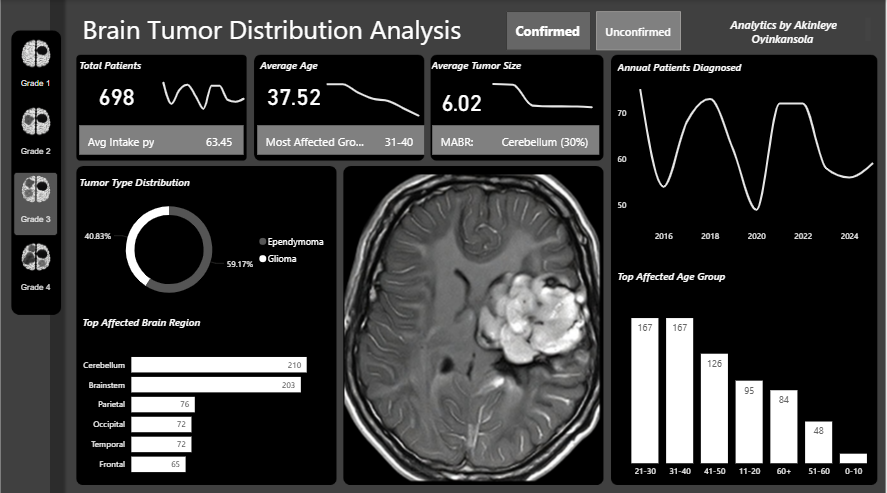

What the dashboard file says about the page in this screenshot:
{"tool":"powerbi","page":{"name":"Page 1","canvas":[1280,720],"ordinal":0},"visuals":[{"type":"card","fields":{"Values":["Count(Brain Tumor Data b.Patient ID)"]},"box":[109.9,98.3,117.1,78.1],"z":0},{"type":"lineChart","fields":{"Category":["Brain Tumor Data b.Date of Diagnosis.Variation.Date Hierarchy.Year"],"Y":["CountNonNull(Brain Tumor Data b.Patient ID)"]},"box":[221.2,98.3,146,78.1],"z":1000},{"type":"textbox","box":[105.5,78.1,115.7,39],"z":2000},{"type":"textbox","box":[367.2,78.1,115.7,39],"z":3000},{"type":"card","fields":{"Values":["Avg(Brain Tumor Data.Age)"]},"box":[367.2,98.3,115.7,78.1],"z":4000},{"type":"lineChart","fields":{"Y":["CountNonNull(Brain Tumor Data b.Patient ID)"],"Category":["Brain Tumor Data.Age Group"]},"box":[459.8,98.3,159,78.1],"z":5000},{"type":"textbox","box":[618.8,78.1,153.3,39],"z":6000},{"type":"card","fields":{"Values":["Avg(Brain Tumor Data.Tumor Size (cm))"]},"box":[620.2,117.1,94,59.3],"z":7000},{"type":"lineChart","fields":{"Category":["Brain Tumor Data.Affected Brain Region"],"Y":["Sum(Brain Tumor Data.Tumor Size (cm))"]},"box":[696.9,98.3,174.9,78.1],"z":8000},{"type":"cardVisual","fields":{"Data":["CountNonNull(Brain Tumor Data.Patient ID)"]},"box":[109.9,176.4,247.2,52],"z":9000},{"type":"cardVisual","fields":{"Data":["CountNonNull(Brain Tumor Data.Patient ID)"]},"box":[367.2,176.4,251.6,52],"z":10000},{"type":"cardVisual","fields":{"Data":["CountNonNull(Brain Tumor Data.Patient ID)"]},"box":[620.2,176.4,251.6,52],"z":11000},{"type":"advancedSlicerVisual","fields":{"Values":["Brain Tumor Data.Histology Confirmation"]},"box":[727.2,11.6,263.1,66.5],"z":12000},{"type":"ChicletSlicer1448559807354","fields":{"Category":["Tumor Images b.Tumor Grade"],"Image":["Tumor Images b.Icon URL"]},"box":[11.6,44.8,94,404.8],"z":12001},{"type":"imageDB603108E3FF4EBFB8047F5653368E8C","fields":{"imageUrl":["Tumor Images b.Image URL"]},"box":[493,247.2,378.8,452.5],"z":12003},{"type":"donutChart","fields":{"Category":["Brain Tumor Data.Tumor Type"],"Y":["CountNonNull(Brain Tumor Data.Patient ID)"]},"box":[109.9,271.8,373,177.8],"z":12004},{"type":"textbox","box":[109.9,247.2,205.3,36.1],"z":12005},{"type":"clusteredBarChart","fields":{"Category":["Brain Tumor Data.Affected Brain Region"],"Y":["CountNonNull(Brain Tumor Data.Patient ID)"]},"box":[109.9,491.6,373,208.2],"z":12006},{"type":"textbox","box":[114.2,449.6,195.2,41.9],"z":12007},{"type":"lineChart","fields":{"Category":["Brain Tumor Data.Date of Diagnosis.Variation.Date Hierarchy.Year"],"Y":["CountNonNull(Brain Tumor Data.Patient ID)"]},"box":[887.7,115.7,391.8,244.3],"z":12008},{"type":"textbox","box":[887.7,81,205.3,36.1],"z":12009},{"type":"clusteredColumnChart","fields":{"Category":["Brain Tumor Data.Age Group"],"Y":["CountNonNull(Brain Tumor Data.Patient ID)"]},"box":[887.7,419.3,391.8,280.5],"z":12010},{"type":"textbox","box":[887.7,383.1,205.3,36.1],"z":12011},{"type":"textbox","box":[114.2,11.6,626,66.5],"z":12012},{"type":"textbox","box":[1012,20.2,251.6,47.7],"z":12013}]}

Visuals, with their boxes on the page's 1280x720 design canvas (x1, y1, x2, y2). These are canvas units, not pixel positions in the 887x493 screenshot, which may show the page scaled, cropped or inside an application window:
card - Count(Brain Tumor Data b.Patient ID): {"x1": 110, "y1": 98, "x2": 227, "y2": 176}
lineChart - Brain Tumor Data b.Date of Diagnosis.Variation.Date Hierarchy.Year x CountNonNull(Brain Tumor Data b.Patient ID): {"x1": 221, "y1": 98, "x2": 367, "y2": 176}
textbox: {"x1": 106, "y1": 78, "x2": 221, "y2": 117}
textbox: {"x1": 367, "y1": 78, "x2": 483, "y2": 117}
card - Avg(Brain Tumor Data.Age): {"x1": 367, "y1": 98, "x2": 483, "y2": 176}
lineChart - CountNonNull(Brain Tumor Data b.Patient ID) x Brain Tumor Data.Age Group: {"x1": 460, "y1": 98, "x2": 619, "y2": 176}
textbox: {"x1": 619, "y1": 78, "x2": 772, "y2": 117}
card - Avg(Brain Tumor Data.Tumor Size (cm)): {"x1": 620, "y1": 117, "x2": 714, "y2": 176}
lineChart - Brain Tumor Data.Affected Brain Region x Sum(Brain Tumor Data.Tumor Size (cm)): {"x1": 697, "y1": 98, "x2": 872, "y2": 176}
cardVisual - CountNonNull(Brain Tumor Data.Patient ID): {"x1": 110, "y1": 176, "x2": 357, "y2": 228}
cardVisual - CountNonNull(Brain Tumor Data.Patient ID): {"x1": 367, "y1": 176, "x2": 619, "y2": 228}
cardVisual - CountNonNull(Brain Tumor Data.Patient ID): {"x1": 620, "y1": 176, "x2": 872, "y2": 228}
advancedSlicerVisual - Brain Tumor Data.Histology Confirmation: {"x1": 727, "y1": 12, "x2": 990, "y2": 78}
ChicletSlicer1448559807354 - Tumor Images b.Tumor Grade x Tumor Images b.Icon URL: {"x1": 12, "y1": 45, "x2": 106, "y2": 450}
imageDB603108E3FF4EBFB8047F5653368E8C - Tumor Images b.Image URL: {"x1": 493, "y1": 247, "x2": 872, "y2": 700}
donutChart - Brain Tumor Data.Tumor Type x CountNonNull(Brain Tumor Data.Patient ID): {"x1": 110, "y1": 272, "x2": 483, "y2": 450}
textbox: {"x1": 110, "y1": 247, "x2": 315, "y2": 283}
clusteredBarChart - Brain Tumor Data.Affected Brain Region x CountNonNull(Brain Tumor Data.Patient ID): {"x1": 110, "y1": 492, "x2": 483, "y2": 700}
textbox: {"x1": 114, "y1": 450, "x2": 309, "y2": 492}
lineChart - Brain Tumor Data.Date of Diagnosis.Variation.Date Hierarchy.Year x CountNonNull(Brain Tumor Data.Patient ID): {"x1": 888, "y1": 116, "x2": 1280, "y2": 360}
textbox: {"x1": 888, "y1": 81, "x2": 1093, "y2": 117}
clusteredColumnChart - Brain Tumor Data.Age Group x CountNonNull(Brain Tumor Data.Patient ID): {"x1": 888, "y1": 419, "x2": 1280, "y2": 700}
textbox: {"x1": 888, "y1": 383, "x2": 1093, "y2": 419}
textbox: {"x1": 114, "y1": 12, "x2": 740, "y2": 78}
textbox: {"x1": 1012, "y1": 20, "x2": 1264, "y2": 68}
